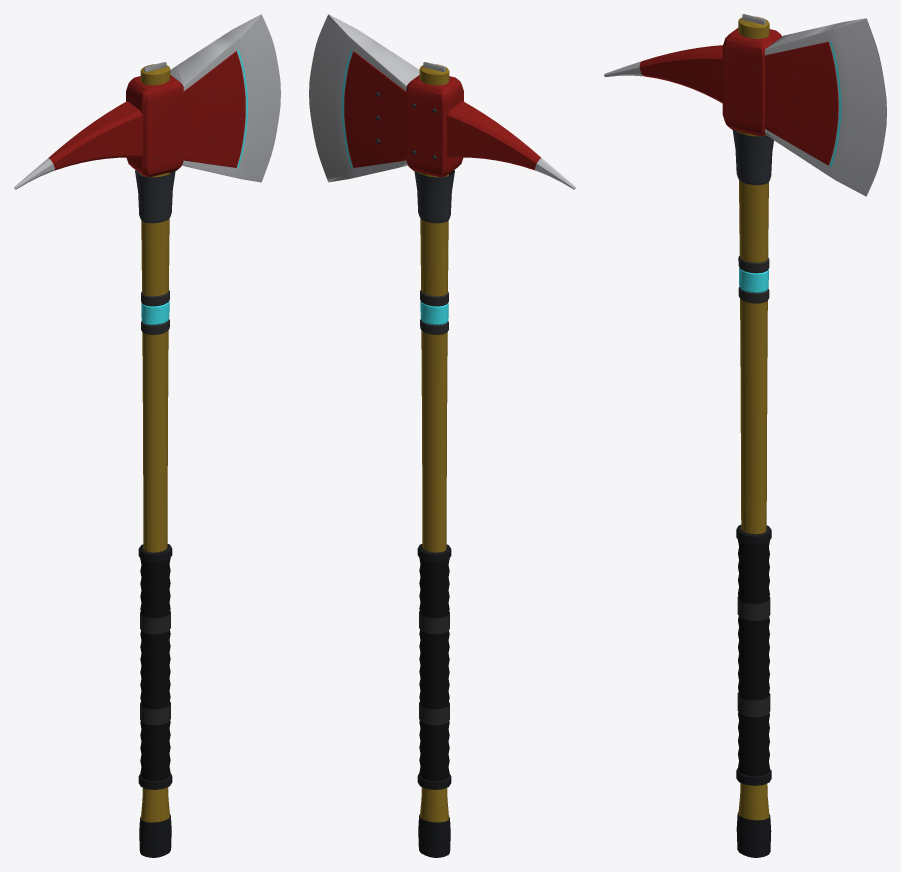
Rendered from gear_neon_fireaxe.glb.
The picture shows the model from 3 angles, left to right: view 1: azimuth 30°, elevation 25°; view 2: azimuth 150°, elevation 25°; view 3: azimuth 330°, elevation 25°; orthographic projection. The views are drawn at different scales.
Visible parts, largest first — view 1: gear_neon_fireaxe; view 2: gear_neon_fireaxe; view 3: gear_neon_fireaxe.
Part boxes in pixels (bbox=[...]): gear_neon_fireaxe: bbox=[14, 14, 280, 857]; gear_neon_fireaxe: bbox=[309, 14, 575, 857]; gear_neon_fireaxe: bbox=[604, 14, 886, 857].
Size of the model in its own units: 0.4167 by 1.22 by 0.0586.
